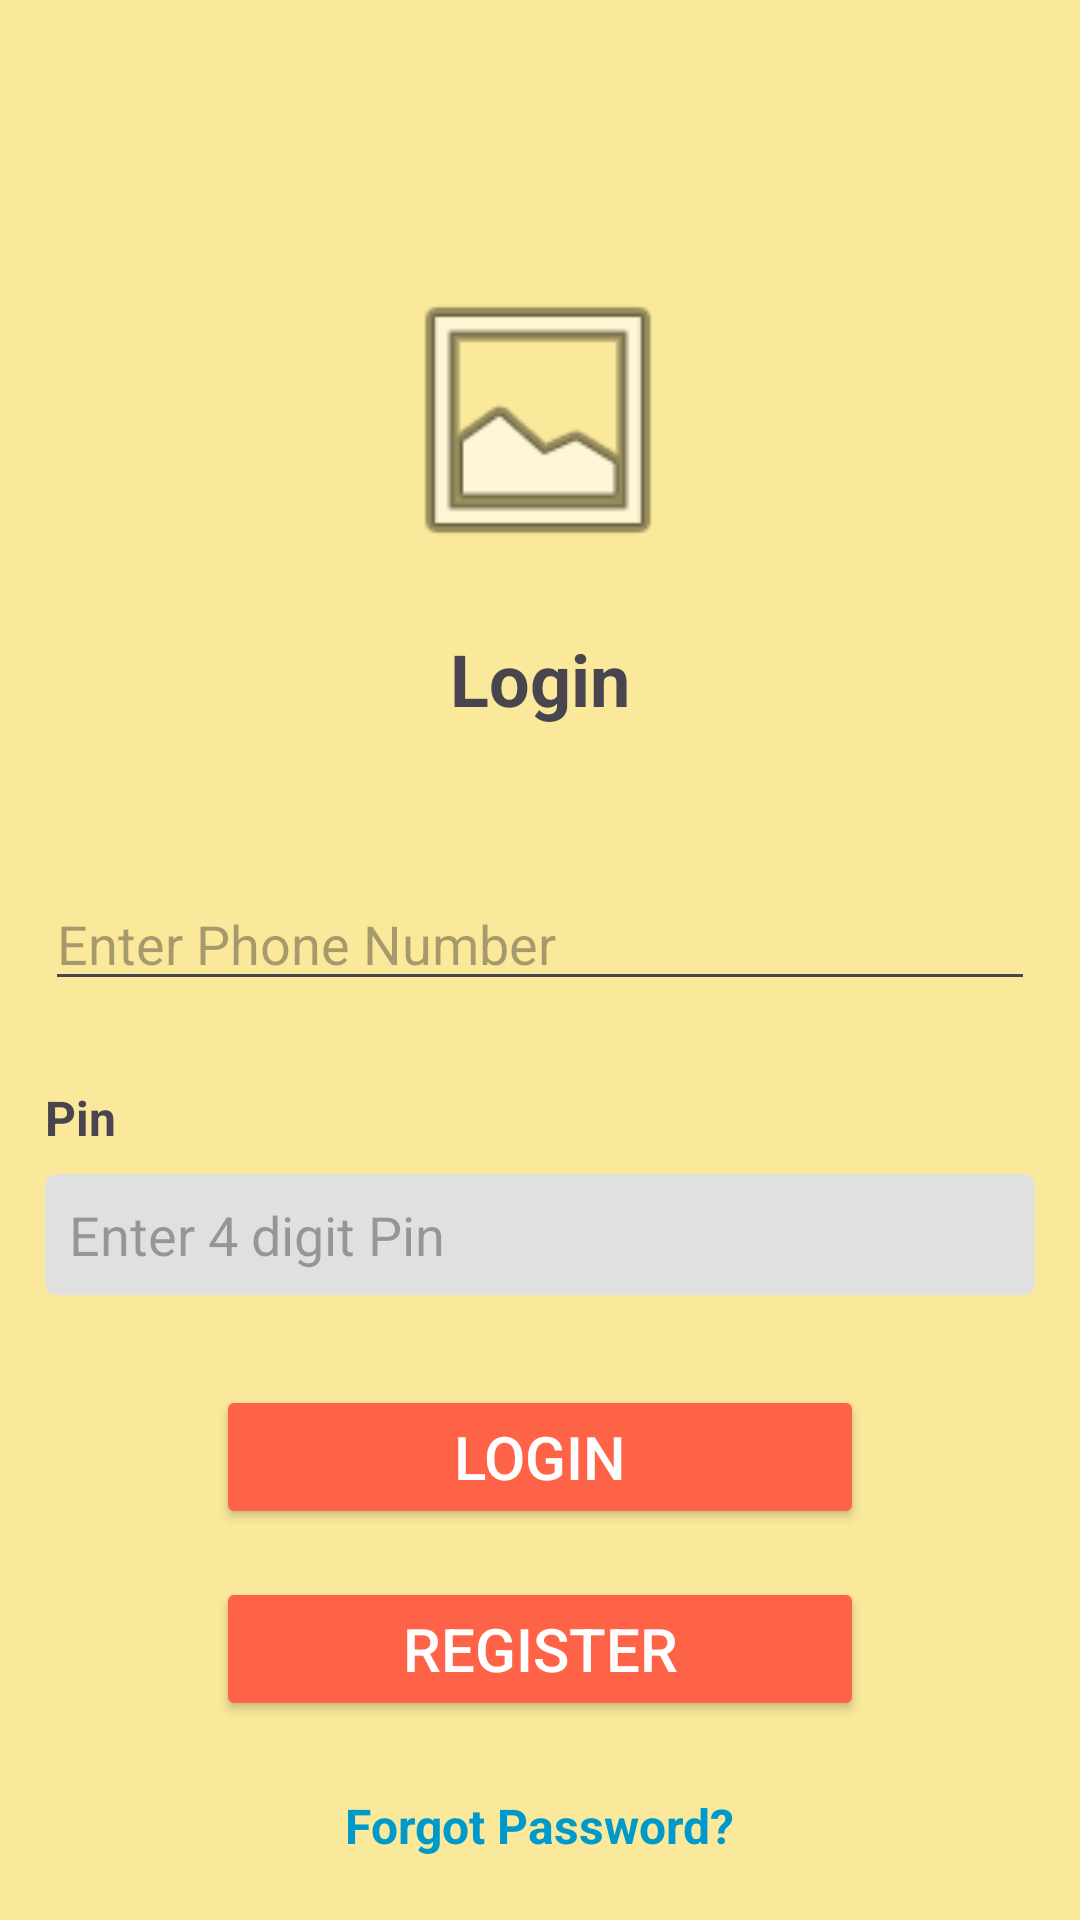

Icon click points for this 1080px×1920px phone screenshot, format point (x, y):
gallery: point (538, 420)
